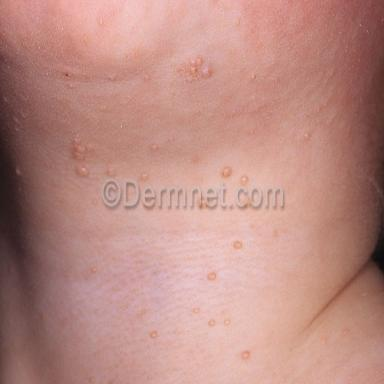Molluscum-Contagiosum: (77, 164, 89, 177), (222, 167, 231, 178), (107, 166, 116, 177), (241, 351, 250, 360), (233, 241, 242, 250), (240, 175, 248, 185), (150, 143, 159, 151), (208, 272, 216, 280), (150, 330, 157, 339), (209, 320, 215, 327), (224, 319, 230, 326), (141, 174, 148, 180), (193, 307, 199, 313), (91, 267, 97, 273), (304, 134, 308, 140)
